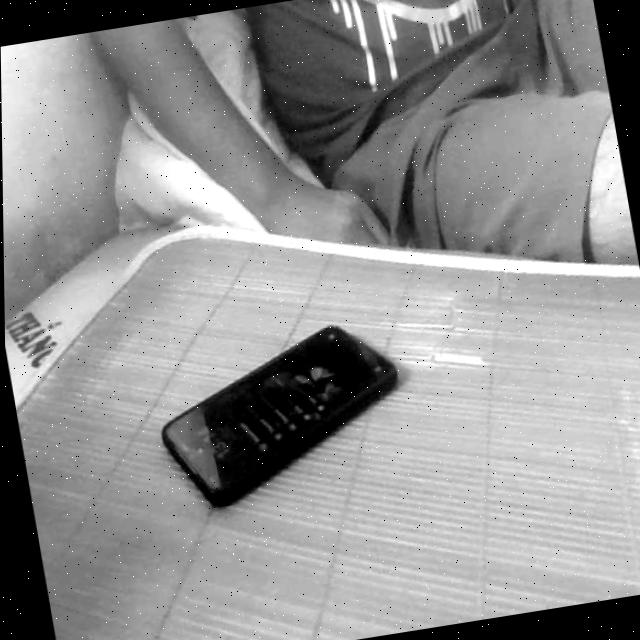phone: (123, 294, 439, 536)
